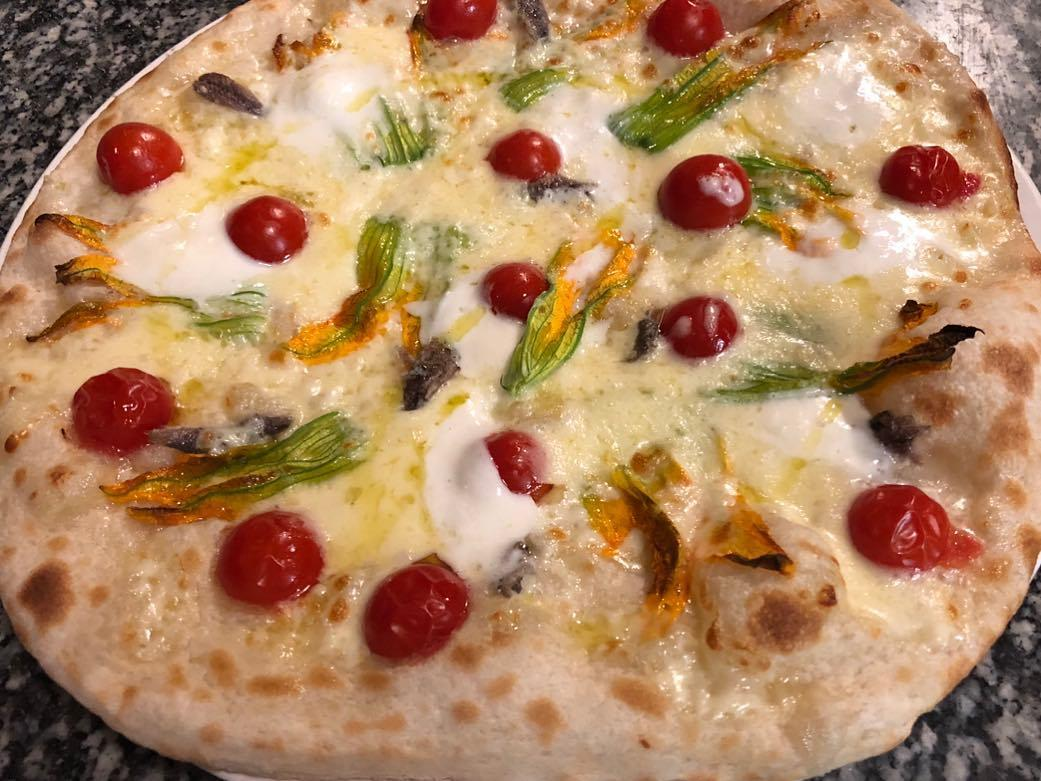Pizza: (0, 0, 1041, 781)
Tomatoes: (366, 557, 470, 664), (214, 506, 327, 602), (67, 367, 173, 448), (851, 482, 947, 567), (94, 121, 186, 193), (461, 432, 554, 501), (659, 153, 749, 224), (878, 144, 967, 204), (228, 197, 307, 263), (664, 294, 736, 357), (650, 0, 729, 52), (489, 128, 562, 181), (481, 264, 549, 317), (419, 0, 500, 39)
